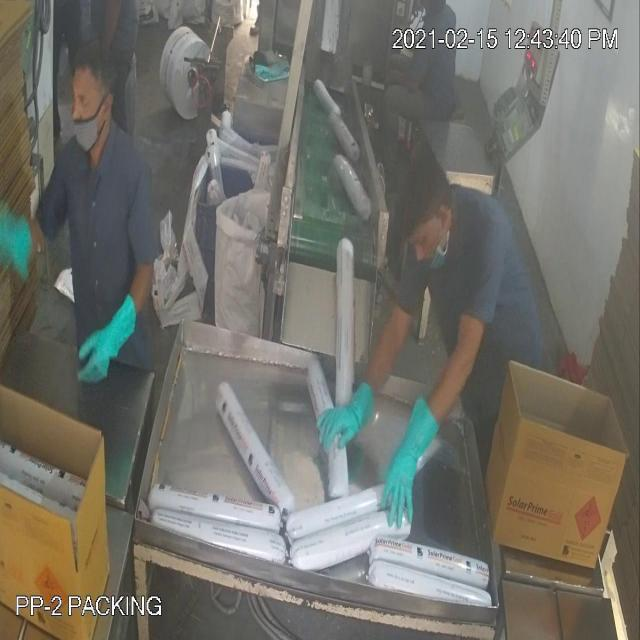Gloves: (66, 92, 410, 464)
